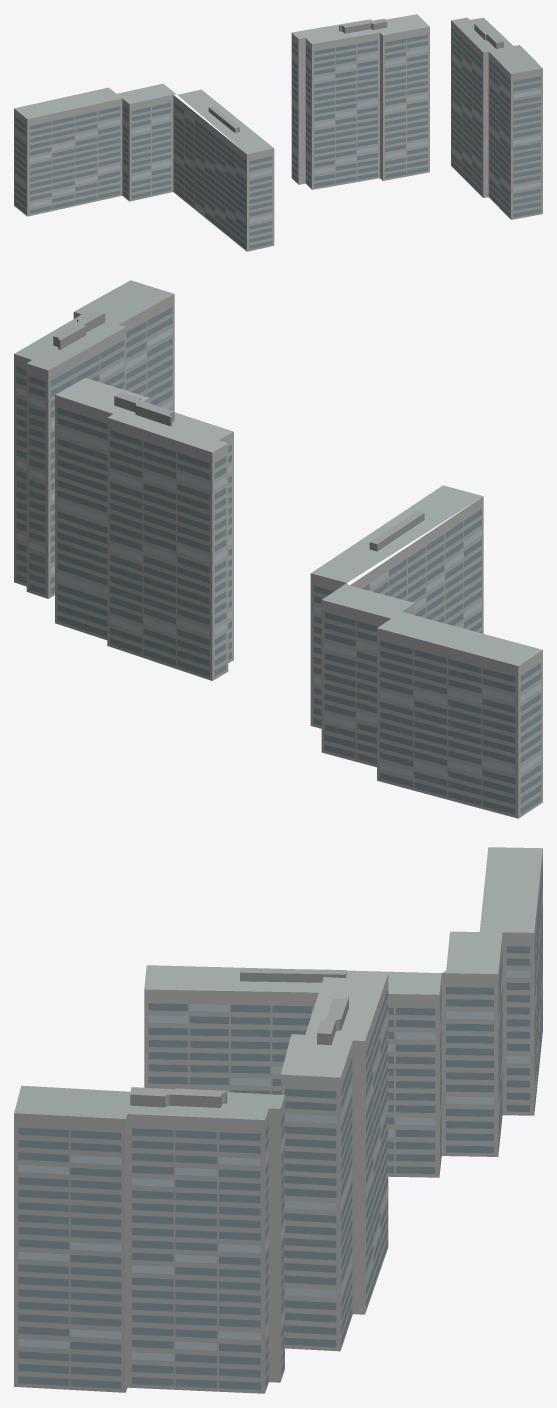
File: apt-a15876402.glb
The picture shows the model from 3 angles, top to bottom: view 1: azimuth 30°, elevation 25°; view 2: azimuth 150°, elevation 25°; view 3: azimuth 270°, elevation 25°; orthographic projection. The views are drawn at different scales.
Parts seen in each view (by area): view 1: apt-a15876402; view 2: apt-a15876402; view 3: apt-a15876402.
Boxes of the visible parts, left/top/right/bottom form: apt-a15876402: left=14, top=14, right=542, bottom=251; apt-a15876402: left=14, top=280, right=542, bottom=818; apt-a15876402: left=14, top=847, right=542, bottom=1393.
Size of the model in its own units: 167 by 61 by 103.
